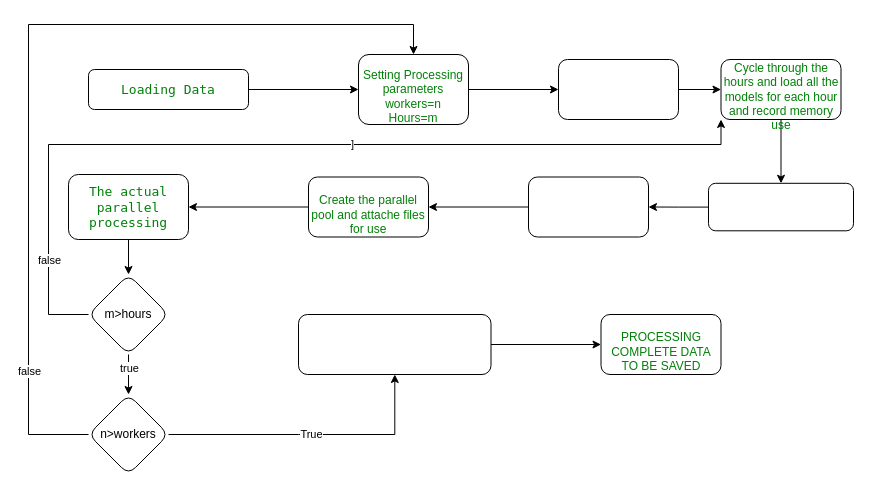
The diagram is 871 pixels wide and 492 high, and some of its shapes have lost their labels. The shapes that lost their labels are listed below. From the top down, each one's centre as x and y in pixels, then its label:
At (618,89): "Pre-allocating output array memory".
At (588,206): "Pre-process the data for parallel processing".
At (781,206): "Load the data for each hour".
At (394,344): "Reshape ensemble values to Lat, lon, hour format".
